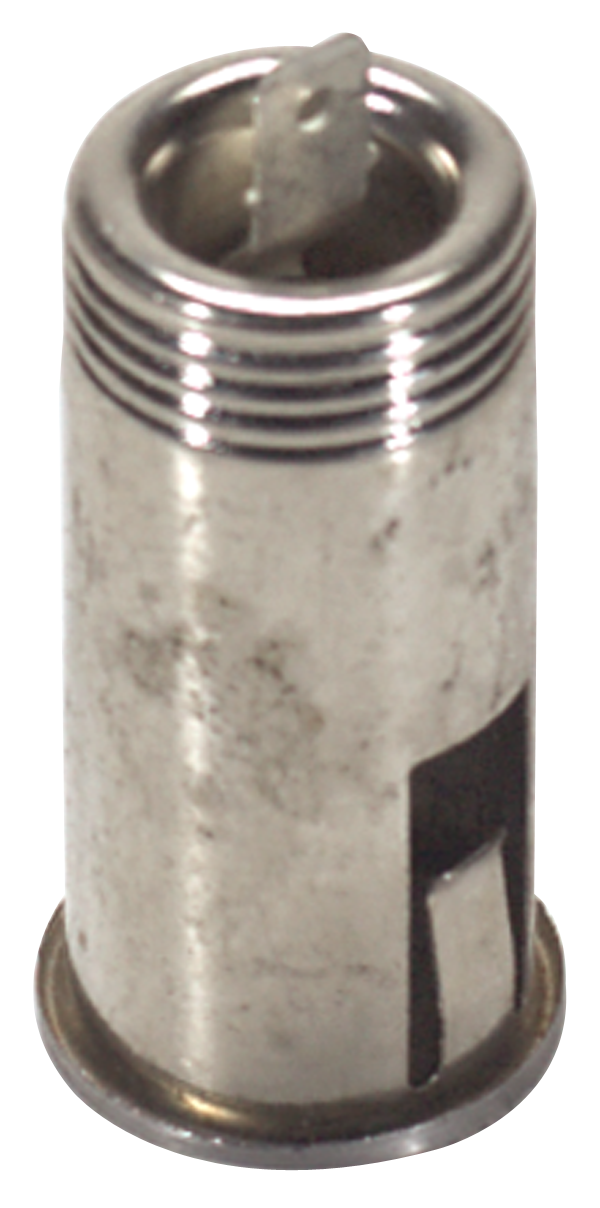Nonrec_Other: (23, 30, 587, 1160)
